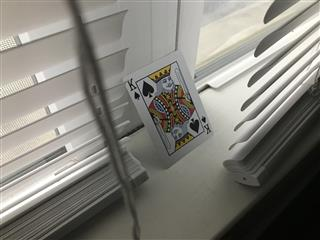KingOfSpades: (122, 49, 214, 168)
